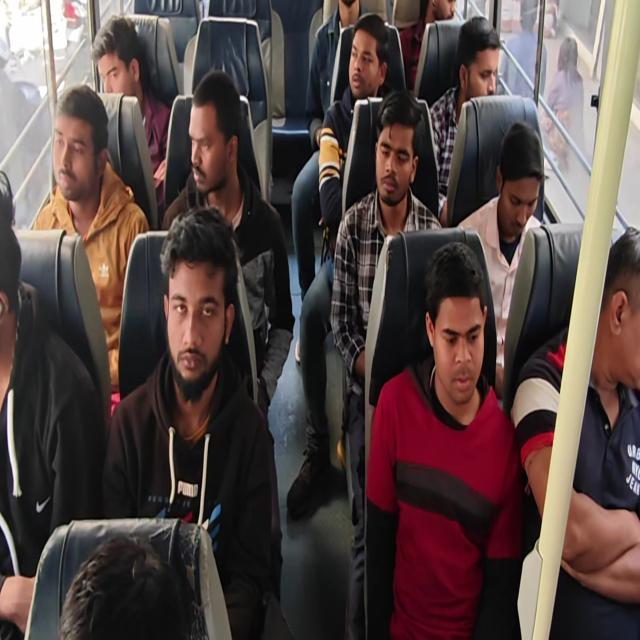person: (2, 2, 638, 638), (101, 205, 282, 638), (364, 240, 524, 638), (329, 89, 443, 637), (286, 12, 393, 519), (510, 224, 640, 638), (0, 170, 105, 638), (160, 68, 295, 429), (29, 84, 150, 414), (456, 120, 545, 398), (290, 0, 367, 302), (318, 12, 392, 252), (91, 14, 171, 220), (428, 16, 501, 222), (59, 533, 194, 639), (541, 35, 585, 171), (398, 0, 456, 92), (498, 0, 547, 100)
